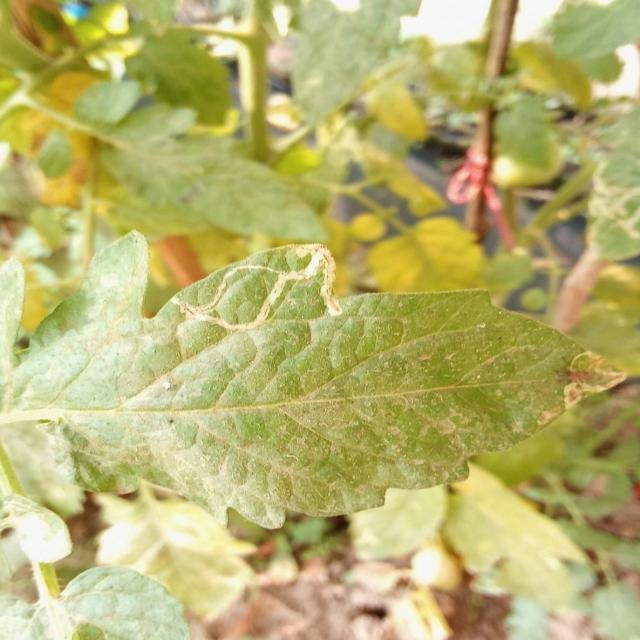Tuta absoluta: (164, 244, 346, 334), (551, 341, 626, 408)
